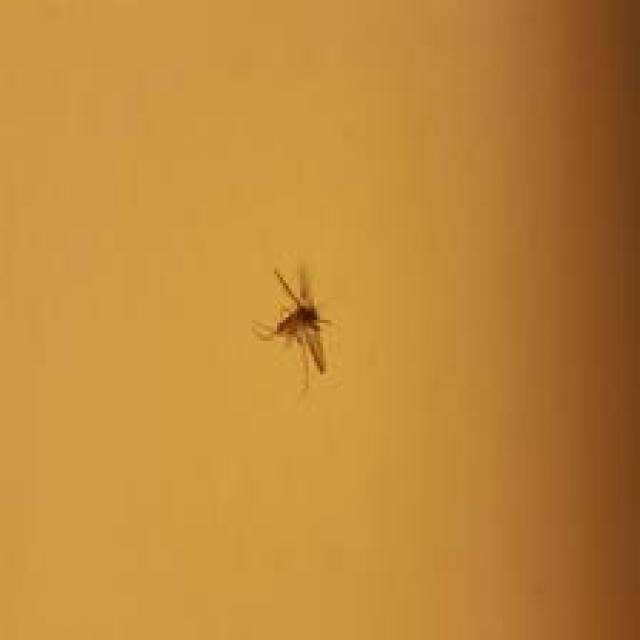Culex: (250, 263, 333, 388)
